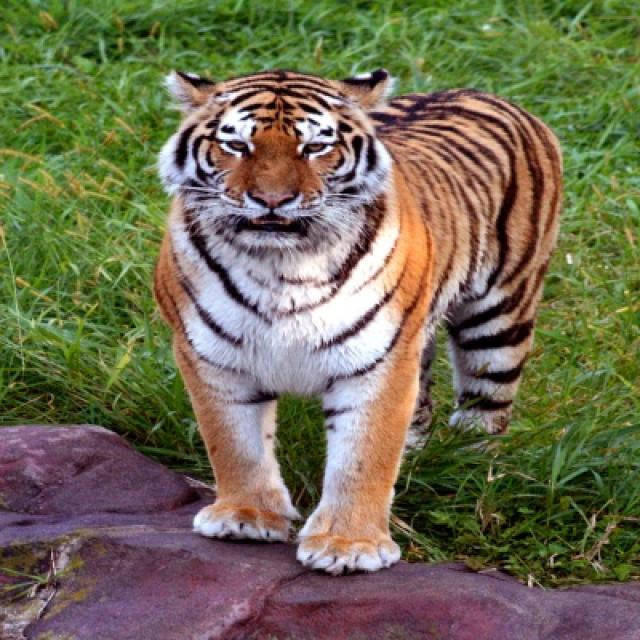Tiger: (150, 62, 570, 573)
